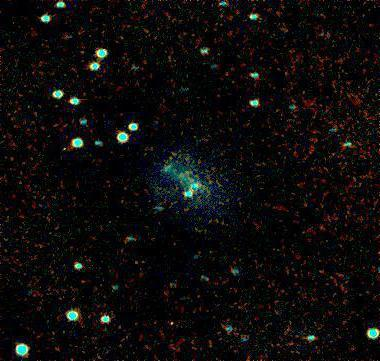star: (157, 308, 187, 338)
